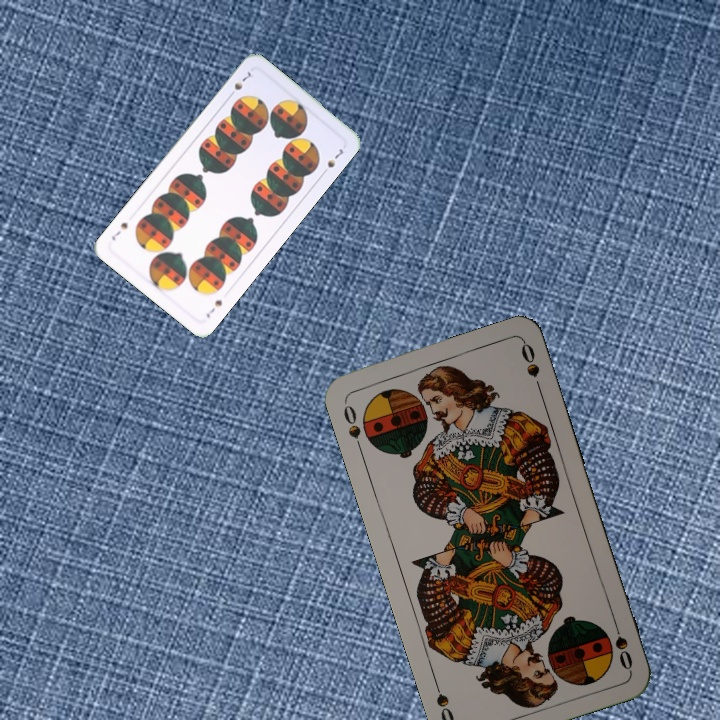S7: (224, 67, 256, 100), (202, 295, 225, 321)
SO: (609, 615, 635, 673), (339, 397, 365, 455)
